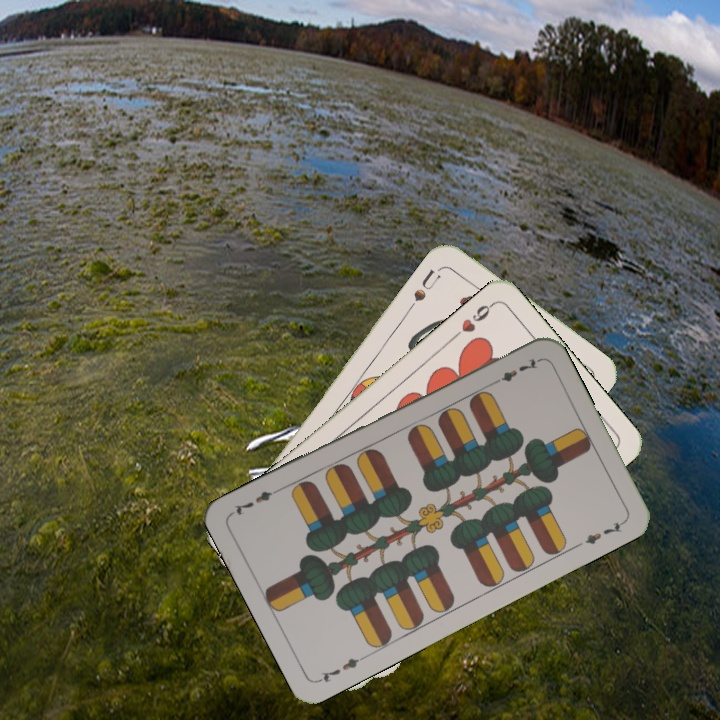E7: (487, 354, 542, 388), (314, 651, 369, 685)
H9: (448, 298, 497, 342)
SU: (405, 265, 443, 312)
